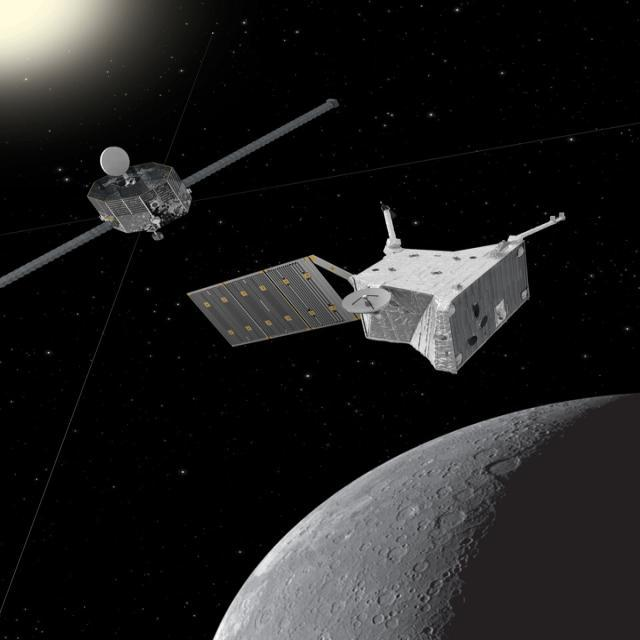sat: (203, 193, 577, 375), (0, 96, 354, 269)
